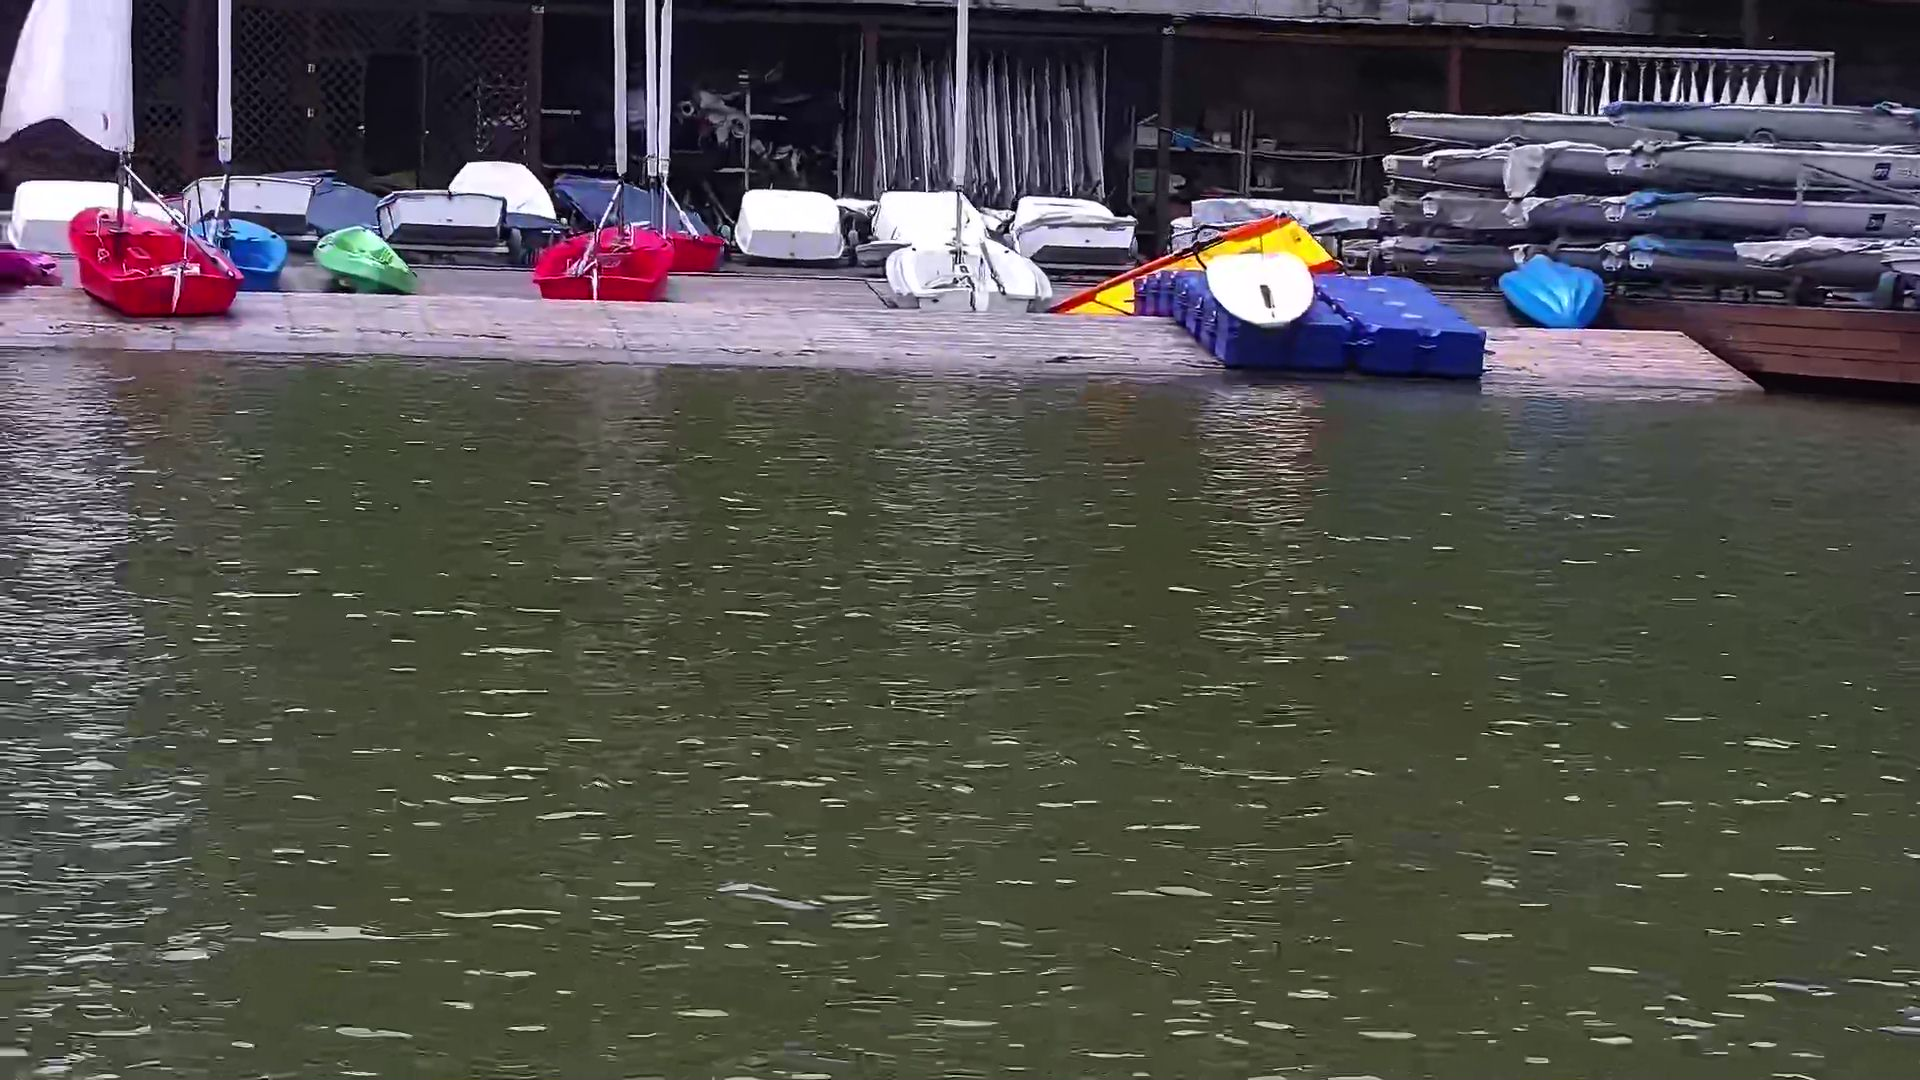harbor: (22, 88, 1903, 394)
